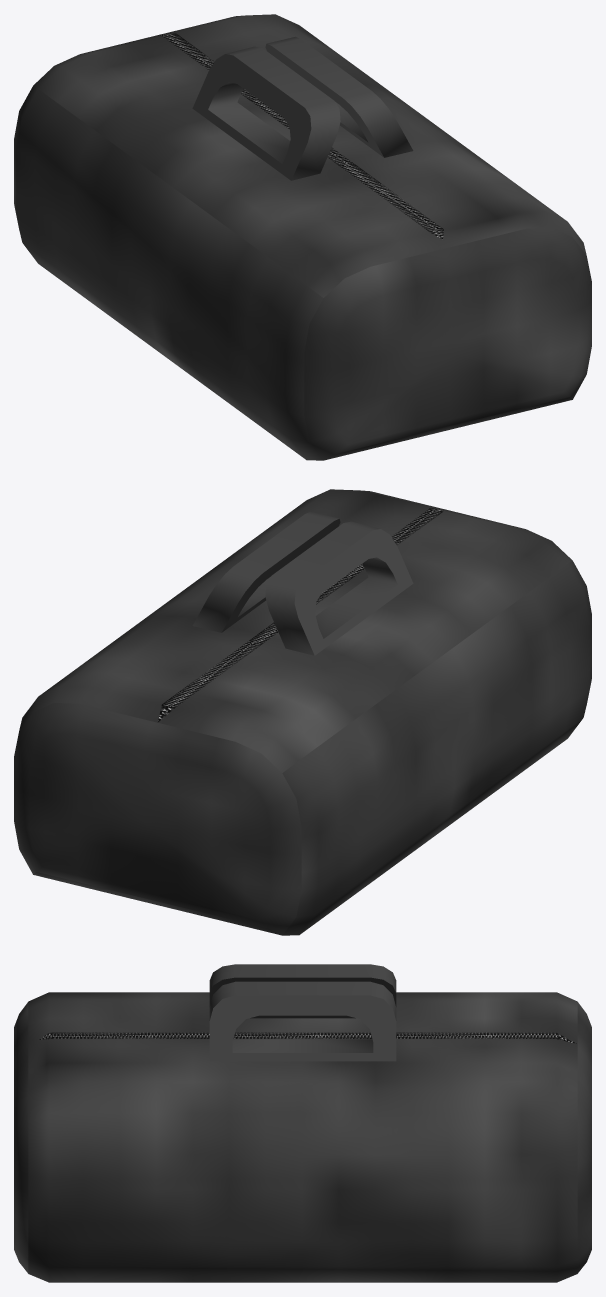
Rendered from Duffle_Closed.fbx.
3 renders of one model, top to bottom at view 1: azimuth 30°, elevation 25°; view 2: azimuth 150°, elevation 25°; view 3: azimuth 270°, elevation 25°, orthographic. The views are drawn at different scales.
Parts seen in each view (by area): view 1: Duffle_Closed; view 2: Duffle_Closed; view 3: Duffle_Closed.
Boxes of the visible parts, box(x1,y1,x2,y2) form: Duffle_Closed: box(14, 14, 591, 460); Duffle_Closed: box(14, 489, 591, 935); Duffle_Closed: box(14, 964, 591, 1282).
Bounding box in the file's own units: 29.33 × 23.68 × 51.09.
3 materials, 2 textured.
